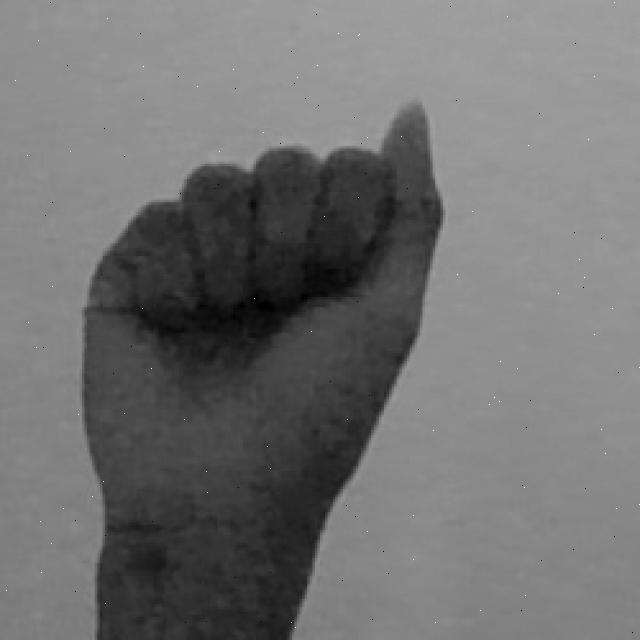A: (74, 94, 453, 640)
